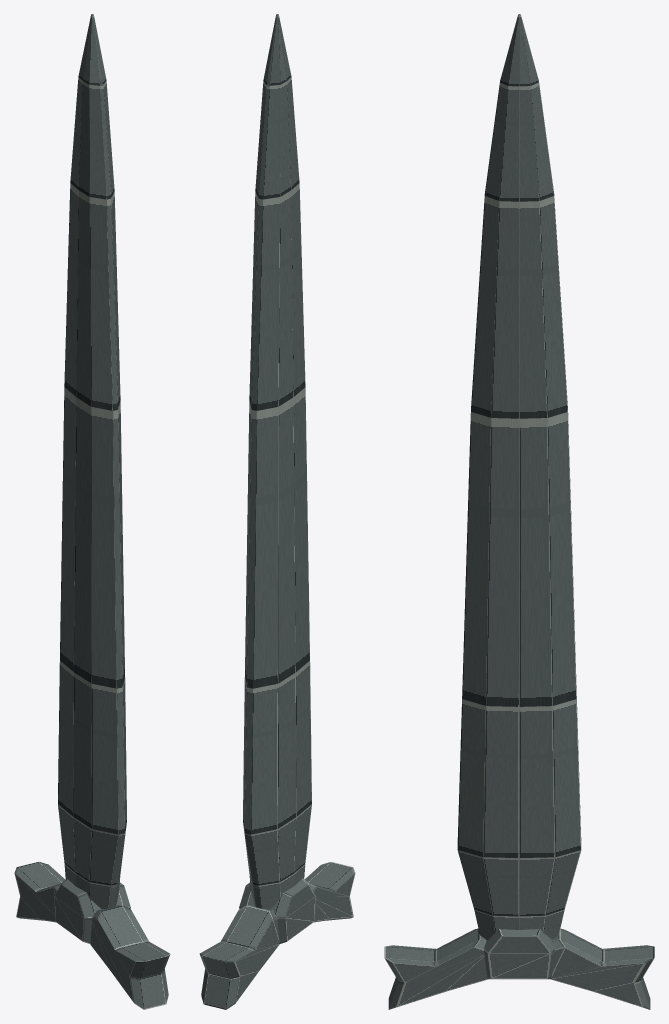
The model's file is workpiece_guiyan_sword_shaped.obj.
3 views of the same model, side by side, from view 1: azimuth 30°, elevation 25°; view 2: azimuth 150°, elevation 25°; view 3: azimuth 270°, elevation 25° (orthographic). The views are drawn at different scales.
Visible parts, largest first — view 1: geometry; view 2: geometry; view 3: geometry.
Part boxes in pixels (x1,y1,x2,y2): geometry: [14, 14, 170, 1009]; geometry: [199, 14, 355, 1009]; geometry: [384, 14, 654, 1009].
Size of the model in its own units: 0.0756 by 1.48 by 0.365.
